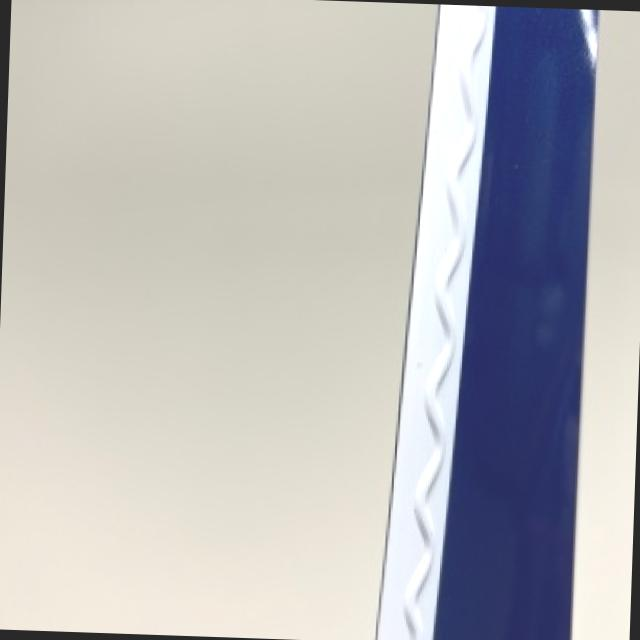healthy: (377, 4, 593, 640)
